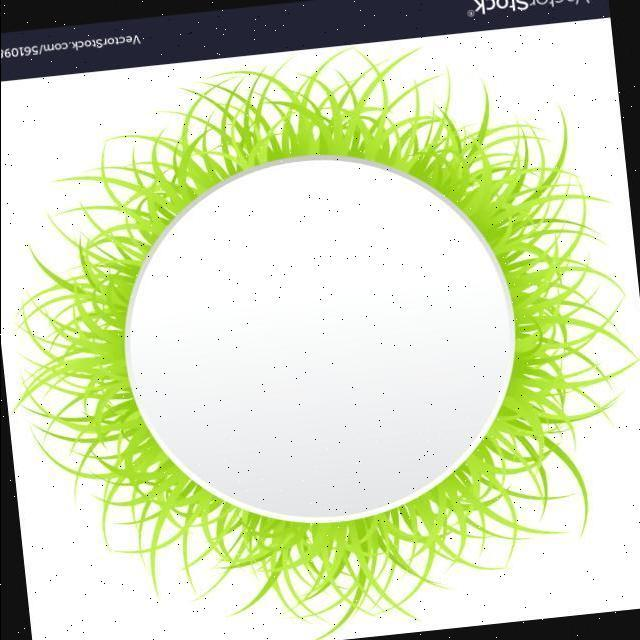Circle: (119, 152, 526, 527)
